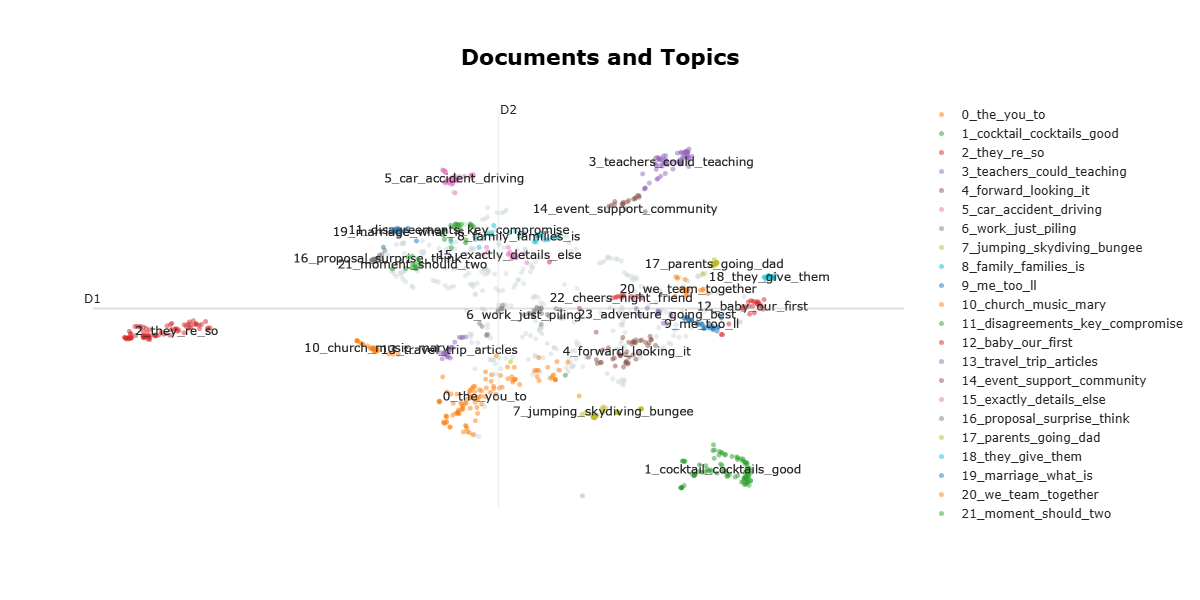

Layout of this report page (visuals, bound fields, positions):
{"tool":"tableau","page":{"name":"Communication Density Analysis","canvas":[1366,768],"ordinal":0},"visuals":[{"type":"text","box":[0,0,1366,119]},{"type":"blank","box":[0,119,1366,5]},{"type":"worksheet","title":"Sheet 1","mark":"Automatic","rows":["Chat (faked_chat_data_unbalanced.csv)"],"cols":["Date (faked_chat_data_unbalanced.csv)"],"box":[0,124,1366,644]}]}

Visuals, with their boxes on the page's 1366x768 design canvas (x1, y1, x2, y2). These are canvas units, not pixel positions in the 1200x600 screenshot, which may show the page scaled, cropped or inside an application window:
text: {"x1": 0, "y1": 0, "x2": 1366, "y2": 119}
blank: {"x1": 0, "y1": 119, "x2": 1366, "y2": 124}
"Sheet 1" worksheet: {"x1": 0, "y1": 124, "x2": 1366, "y2": 768}
